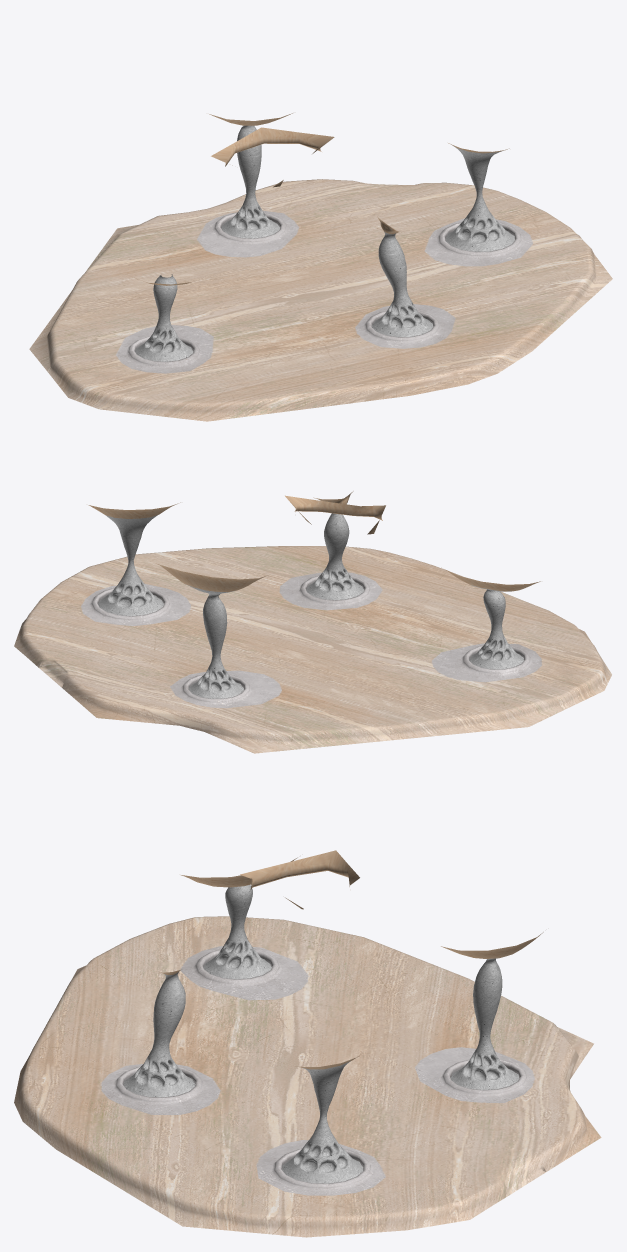
Rendered from MR_Home.gltf.
3 views of the same model, one above another, from view 1: azimuth 30°, elevation 25°; view 2: azimuth 150°, elevation 25°; view 3: azimuth 270°, elevation 25° (orthographic). The views are drawn at different scales.
Visible parts, largest first — view 1: Floor_LOW, Pillars_Roof_Low; view 2: Floor_LOW, Pillars_Roof_Low; view 3: Floor_LOW, Pillars_Roof_Low.
Part boxes in pixels (x1=…): Floor_LOW: x1=29, y1=179, x2=612, y2=421; Pillars_Roof_Low: x1=135, y1=113, x2=514, y2=361; Floor_LOW: x1=14, y1=546, x2=611, y2=753; Pillars_Roof_Low: x1=88, y1=491, x2=540, y2=698; Floor_LOW: x1=14, y1=916, x2=601, y2=1237; Pillars_Roof_Low: x1=123, y1=850, x2=543, y2=1183.
Bounding box in the file's own units: 41 × 12.23 × 32.24.
2 materials, 2 textured.
